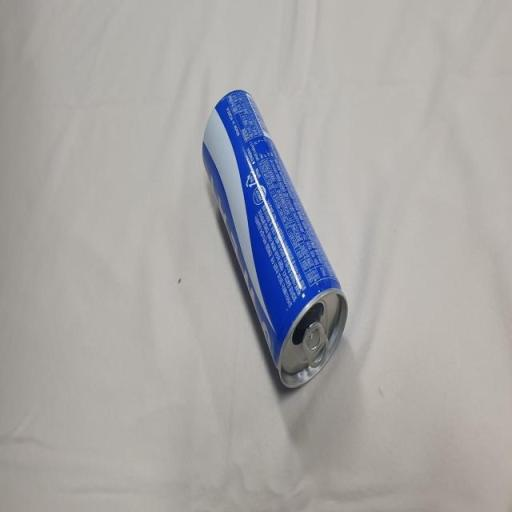metal: (187, 52, 364, 425)
